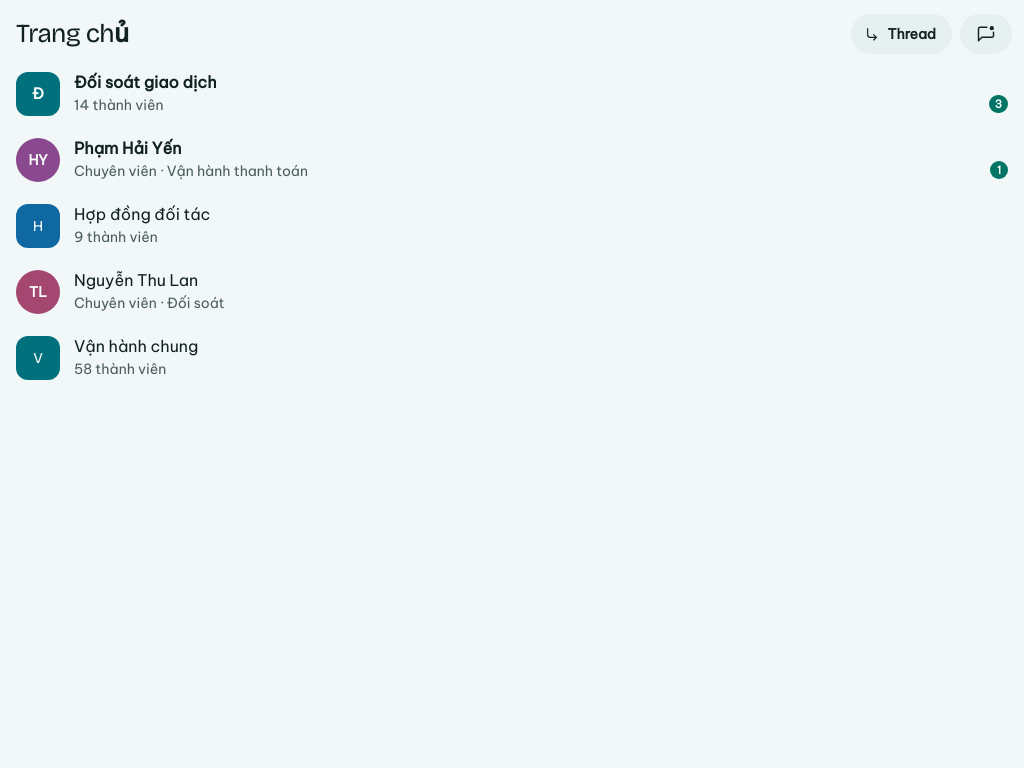
Test: long press on a row › opens the sheet of the conversation, over a row that is a link
Press the mouse on the list item "Đ Đối soát giao dịch 14 thành viên 3": [512, 93] box [0, 60, 1023, 126]
Wait 401 ms
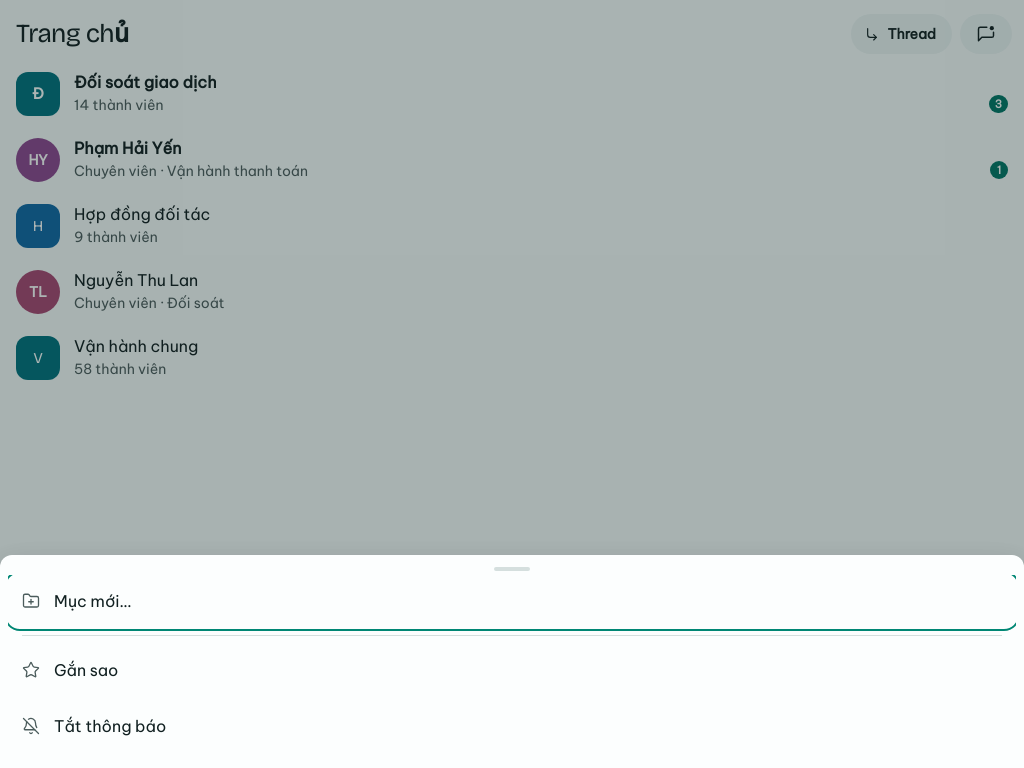
Expected: the dialog named "Tuỳ chọn cho " is shown, [0, 555, 1023, 767]
